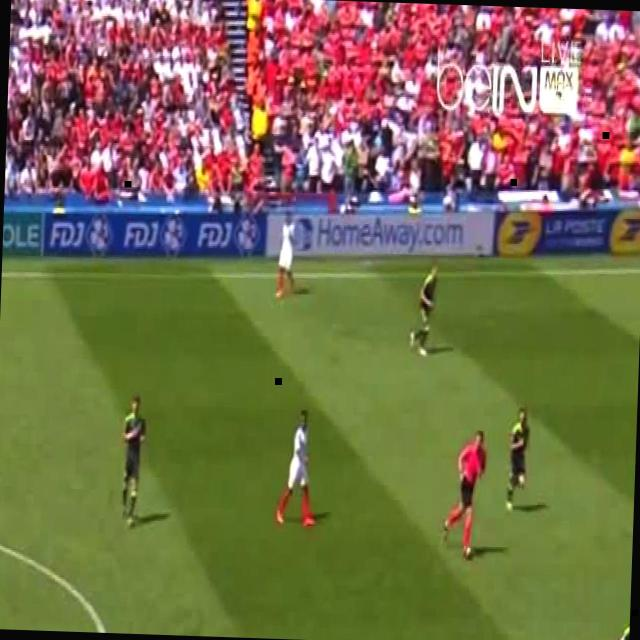player-white: (441, 431, 487, 562), (276, 408, 319, 526), (119, 396, 148, 528), (408, 264, 440, 356), (505, 408, 531, 512), (275, 209, 298, 299), (594, 603, 630, 640)
